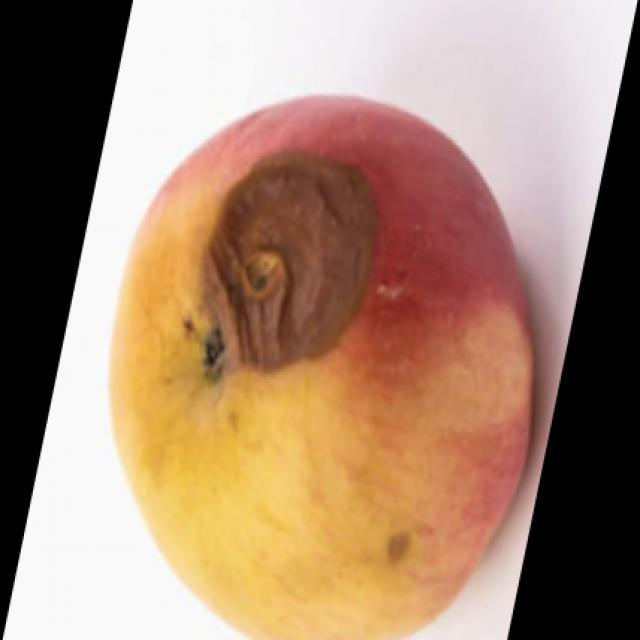Rotten: (115, 105, 550, 640)
